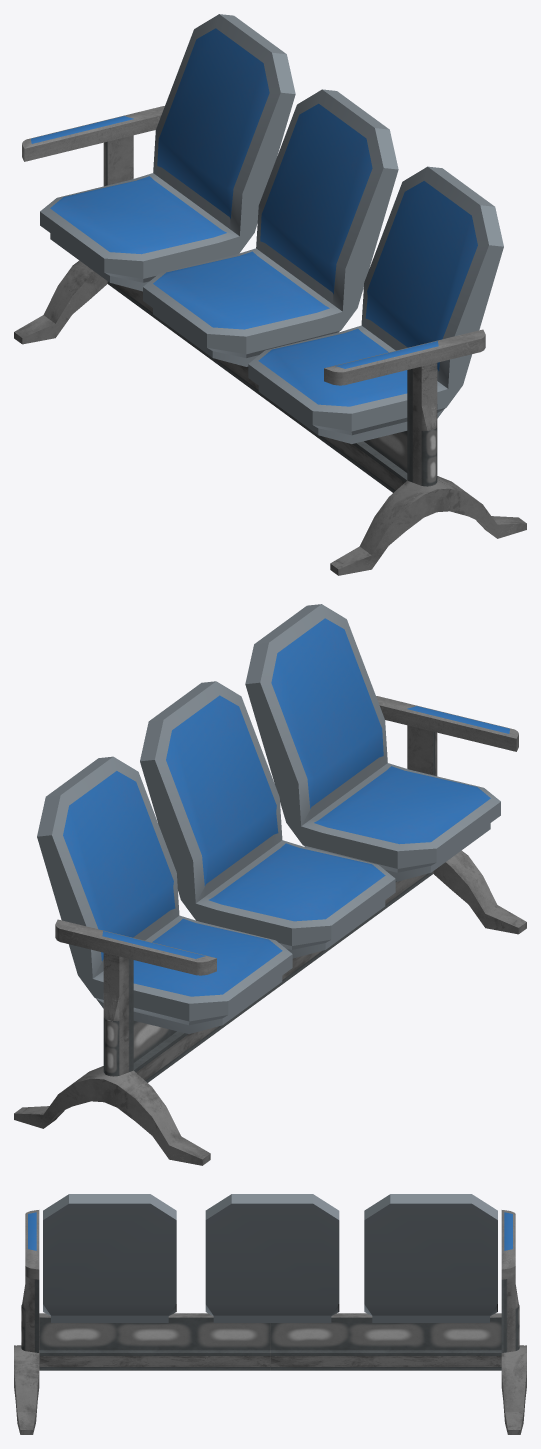
File: WaitingChairs.fbx
The picture shows the model from 3 angles, top to bottom: view 1: azimuth 30°, elevation 25°; view 2: azimuth 150°, elevation 25°; view 3: azimuth 270°, elevation 25°; orthographic projection. The views are drawn at different scales.
Parts seen in each view (by area): view 1: WaitingChairs; view 2: WaitingChairs; view 3: WaitingChairs.
Boxes of the visible parts, x1,y1,x2,y2 form: WaitingChairs: (14,14,526,575); WaitingChairs: (14,604,526,1165); WaitingChairs: (14,1194,526,1434).
Bounding box in the file's own units: 73.82 × 113 × 223.
